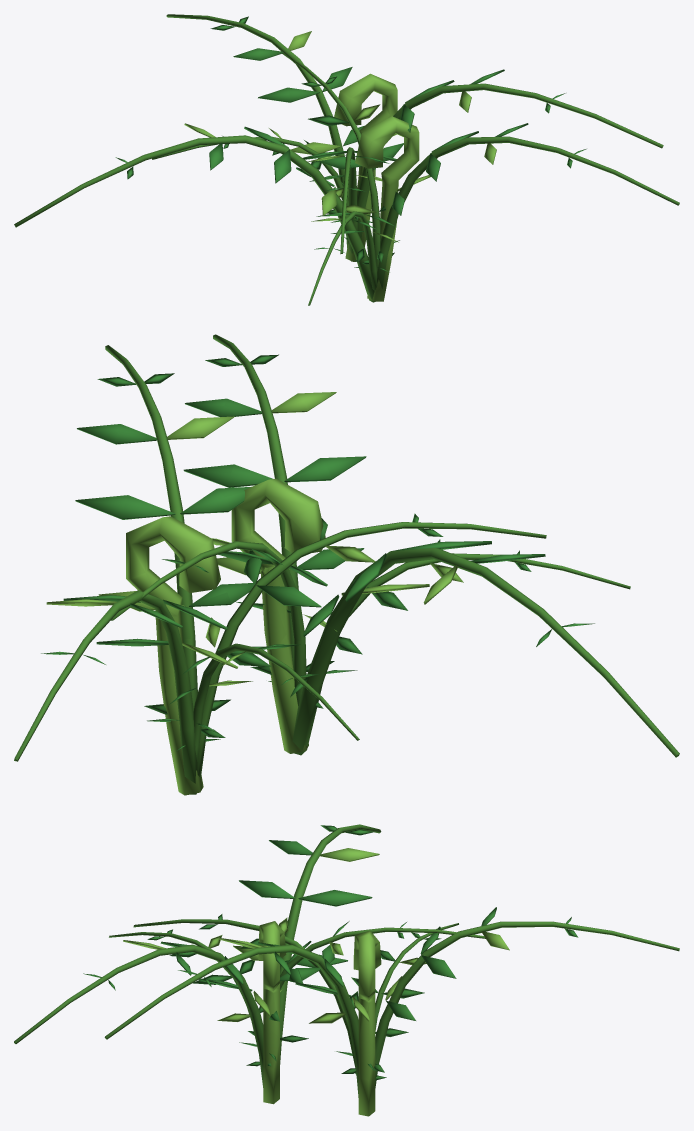
The model's file is canopy_gc_fernlets_a.glb.
The picture shows the model from 3 angles, top to bottom: view 1: azimuth 30°, elevation 25°; view 2: azimuth 150°, elevation 25°; view 3: azimuth 270°, elevation 25°; orthographic projection. The views are drawn at different scales.
Visible parts, largest first — view 1: canopy_gc_fernlets_a; view 2: canopy_gc_fernlets_a; view 3: canopy_gc_fernlets_a.
Boxes of the visible parts, x1,y1,x2,y2 form: canopy_gc_fernlets_a: [14, 14, 679, 305]; canopy_gc_fernlets_a: [14, 334, 679, 795]; canopy_gc_fernlets_a: [14, 824, 679, 1116].
Bounding box in the file's own units: 3.99 × 1.46 × 4.32.
